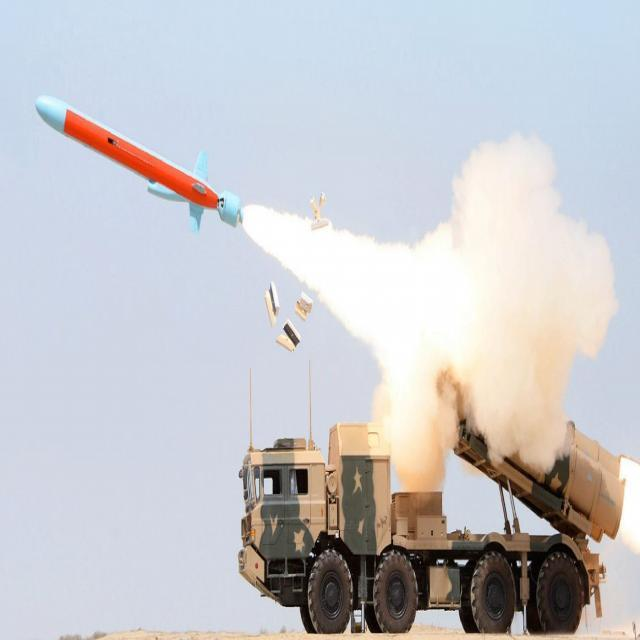Missile: (30, 85, 255, 241)
